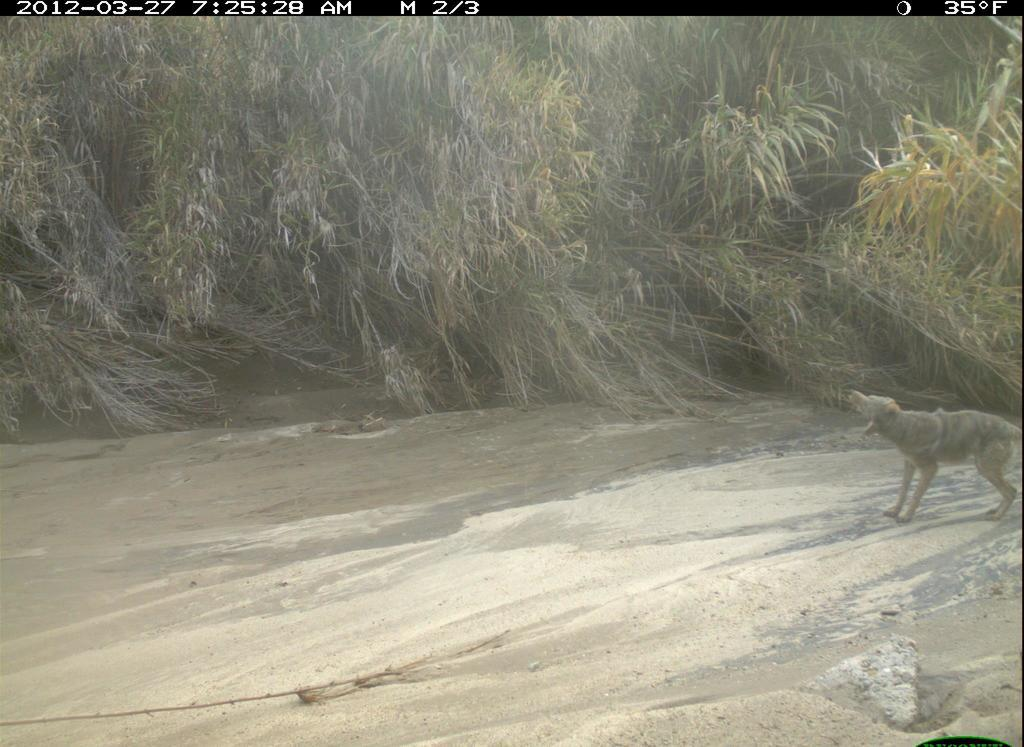coyote: (839, 382, 1023, 529)
